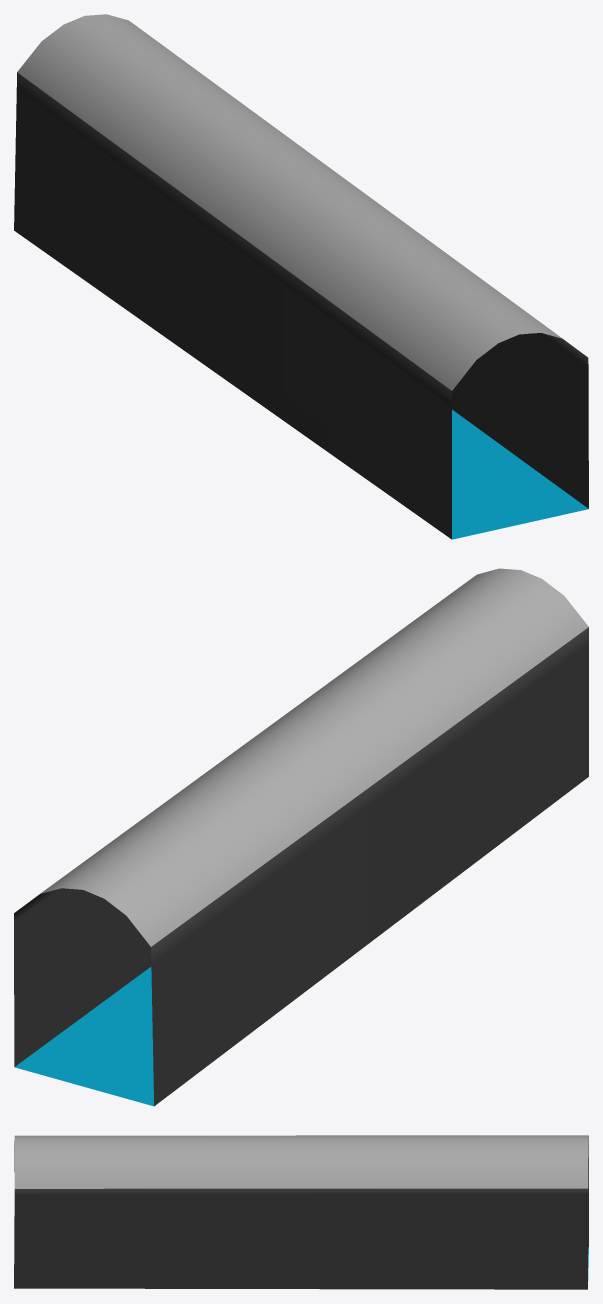
The model's file is Mur_sol_plafond.fbx.
3 views of the same model, one above another, from view 1: azimuth 30°, elevation 25°; view 2: azimuth 150°, elevation 25°; view 3: azimuth 270°, elevation 25° (orthographic). The views are drawn at different scales.
Visible parts, largest first — view 1: Mur_sol_plafond_intro; view 2: Mur_sol_plafond_intro; view 3: Mur_sol_plafond_intro.
Boxes of the visible parts, x1,y1,x2,y2 form: Mur_sol_plafond_intro: [14, 14, 588, 539]; Mur_sol_plafond_intro: [14, 568, 588, 1106]; Mur_sol_plafond_intro: [14, 1135, 588, 1289].
Size of the model in its own units: 5.53 by 7.48 by 29.85.
